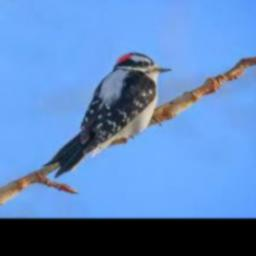Woodpecker: (44, 52, 172, 177)
